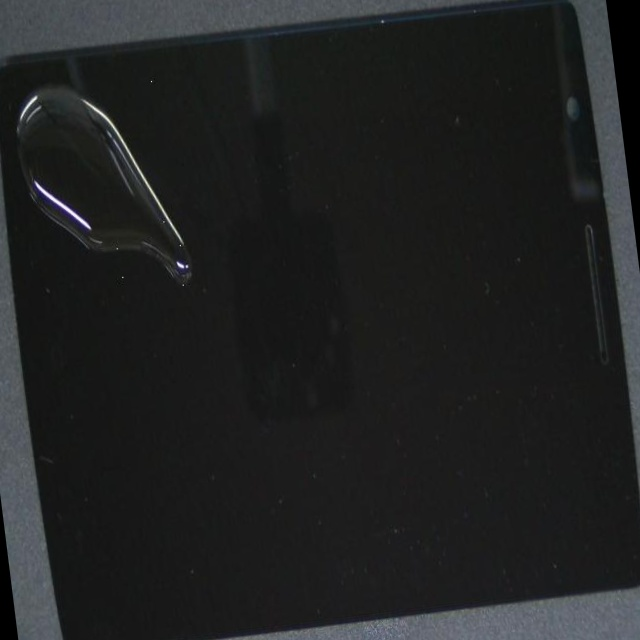oil: (44, 59, 148, 168)
